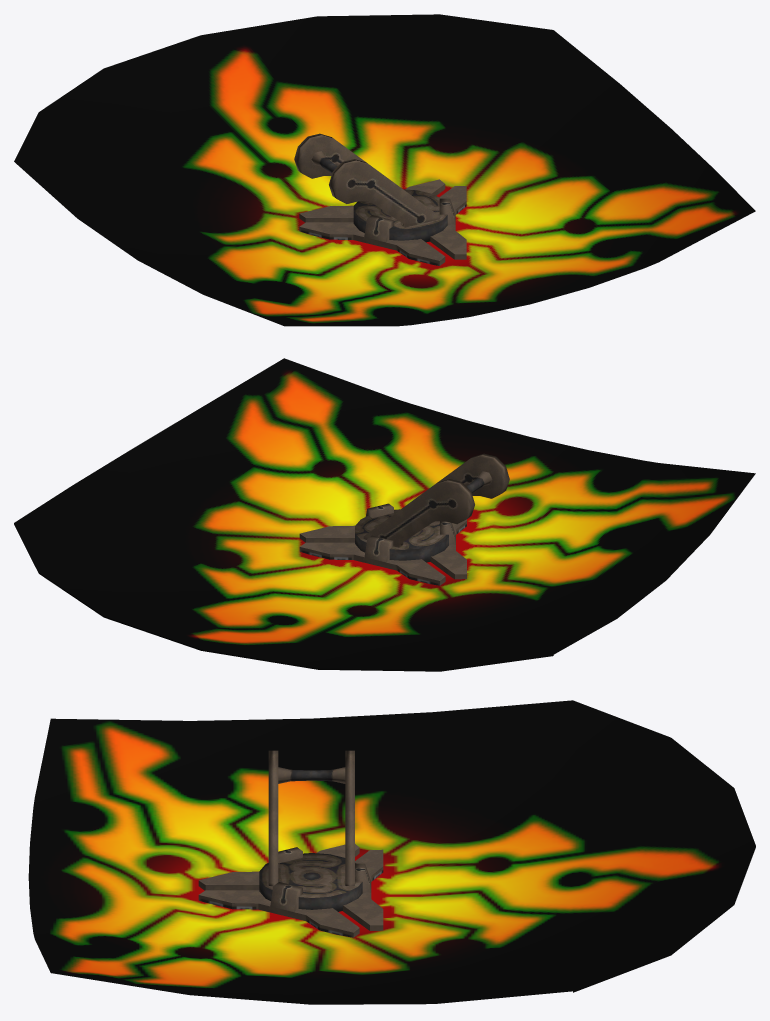
File: Weapon_Shield_014.glb
The picture shows the model from 3 angles, top to bottom: view 1: azimuth 30°, elevation 25°; view 2: azimuth 150°, elevation 25°; view 3: azimuth 270°, elevation 25°; orthographic projection. The views are drawn at different scales.
Visible parts, largest first — view 1: Weapon_Shield_014; view 2: Weapon_Shield_014; view 3: Weapon_Shield_014.
Boxes of the visible parts, bbox=[...] form: Weapon_Shield_014: bbox=[14, 14, 755, 326]; Weapon_Shield_014: bbox=[14, 358, 755, 671]; Weapon_Shield_014: bbox=[28, 700, 755, 1004].
Size of the model in its own units: 1.07 by 0.1939 by 1.12.
Materials: 2 (2 with a texture image).
